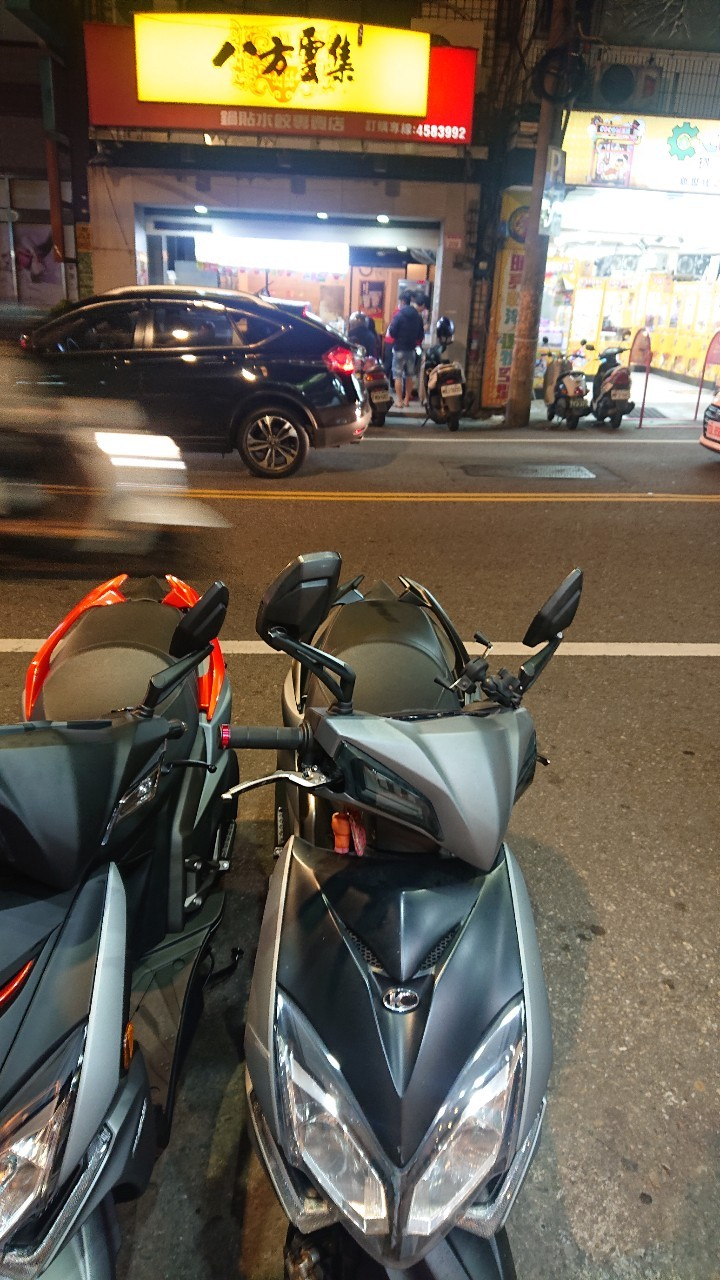people: (387, 292, 424, 408)
